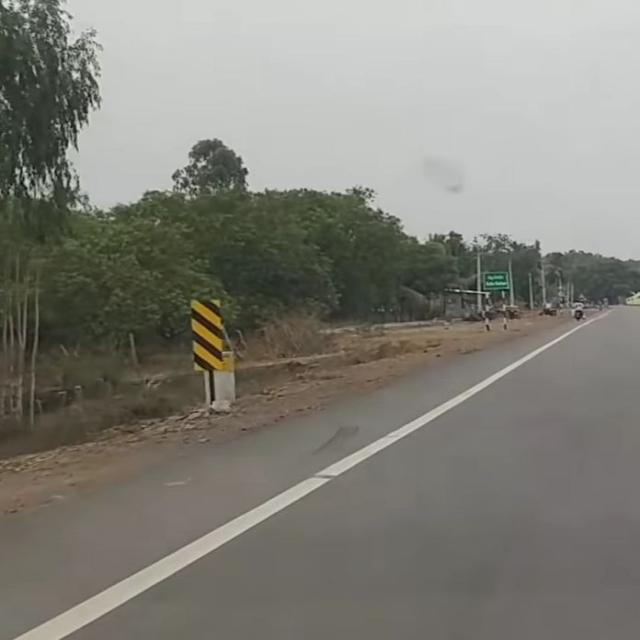object_hazzard_to_left: (188, 292, 227, 380)
